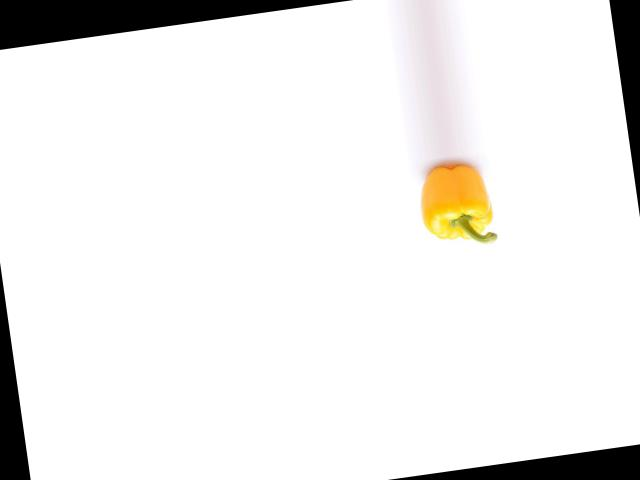bell_pepper: (409, 158, 500, 249)
